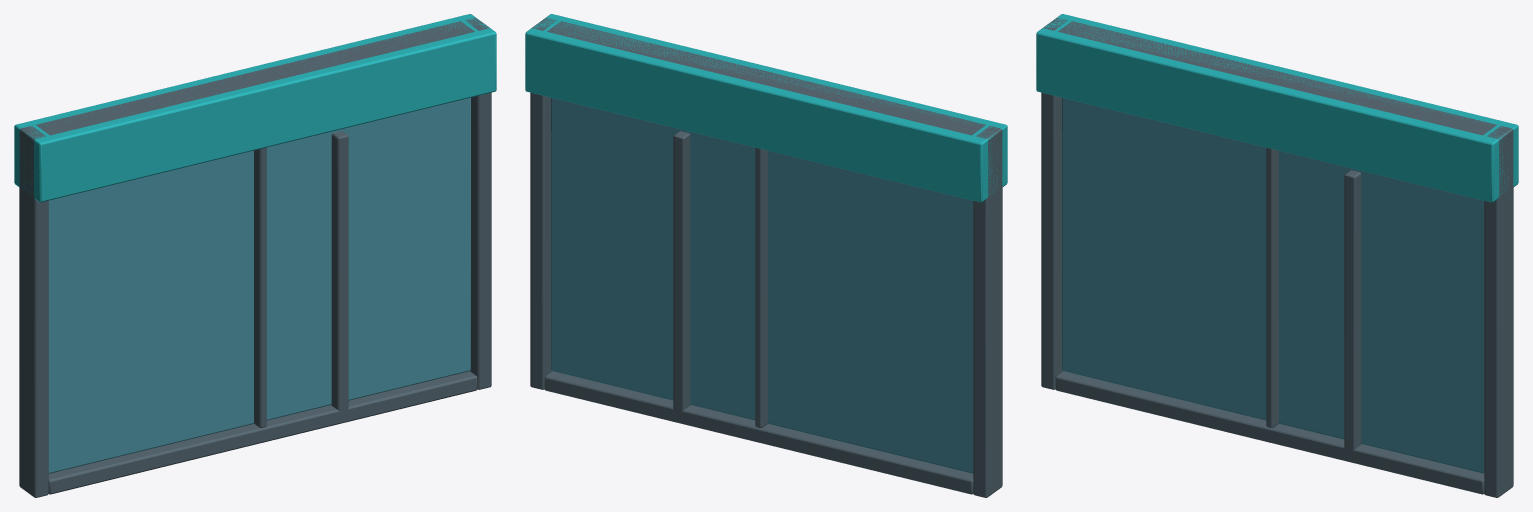
File: MOD_Storefront_01.glb
3 renders of one model, left to right at view 1: azimuth 30°, elevation 25°; view 2: azimuth 150°, elevation 25°; view 3: azimuth 330°, elevation 25°, orthographic.
Visible parts, largest first — view 1: MOD_Storefront_01; view 2: MOD_Storefront_01; view 3: MOD_Storefront_01.
Boxes of the visible parts, box(x1,y1,x2,y2) form: MOD_Storefront_01: box(14, 14, 496, 497); MOD_Storefront_01: box(525, 14, 1007, 497); MOD_Storefront_01: box(1036, 14, 1518, 497).
Bounding box in the file's own units: 4 × 3 × 0.4.
